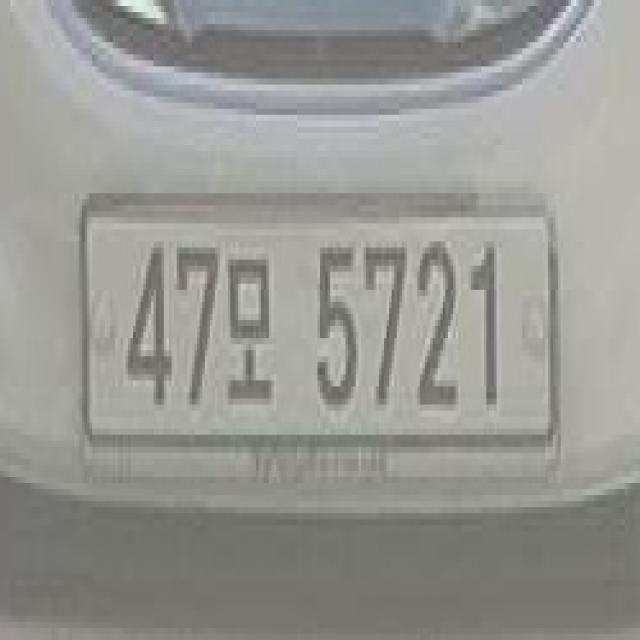1: (466, 233, 504, 432)
2: (412, 232, 460, 424)
4: (120, 236, 176, 419)
5: (312, 234, 362, 416)
7: (176, 236, 222, 422), (364, 236, 410, 416)
license_plate: (76, 170, 564, 478)
mo: (225, 246, 278, 427)
